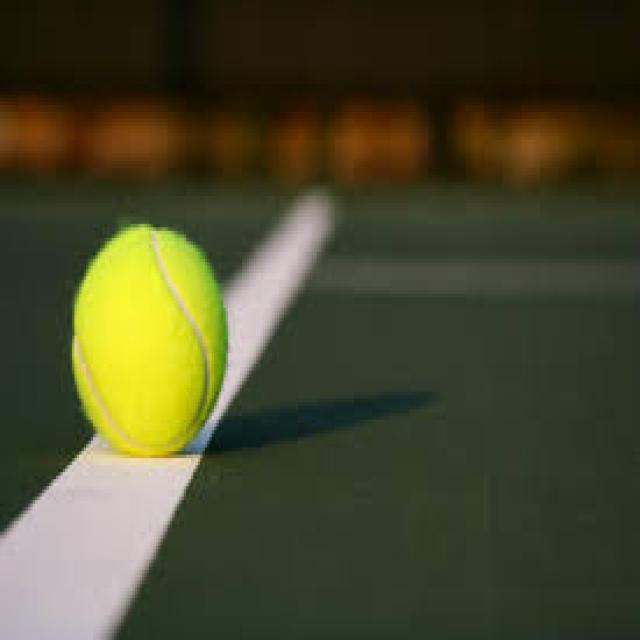tennis-ball: (74, 227, 228, 457)
